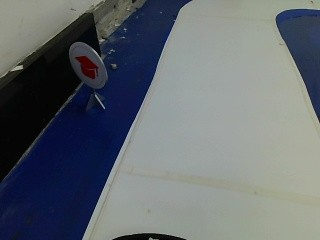school: (67, 40, 107, 88)
